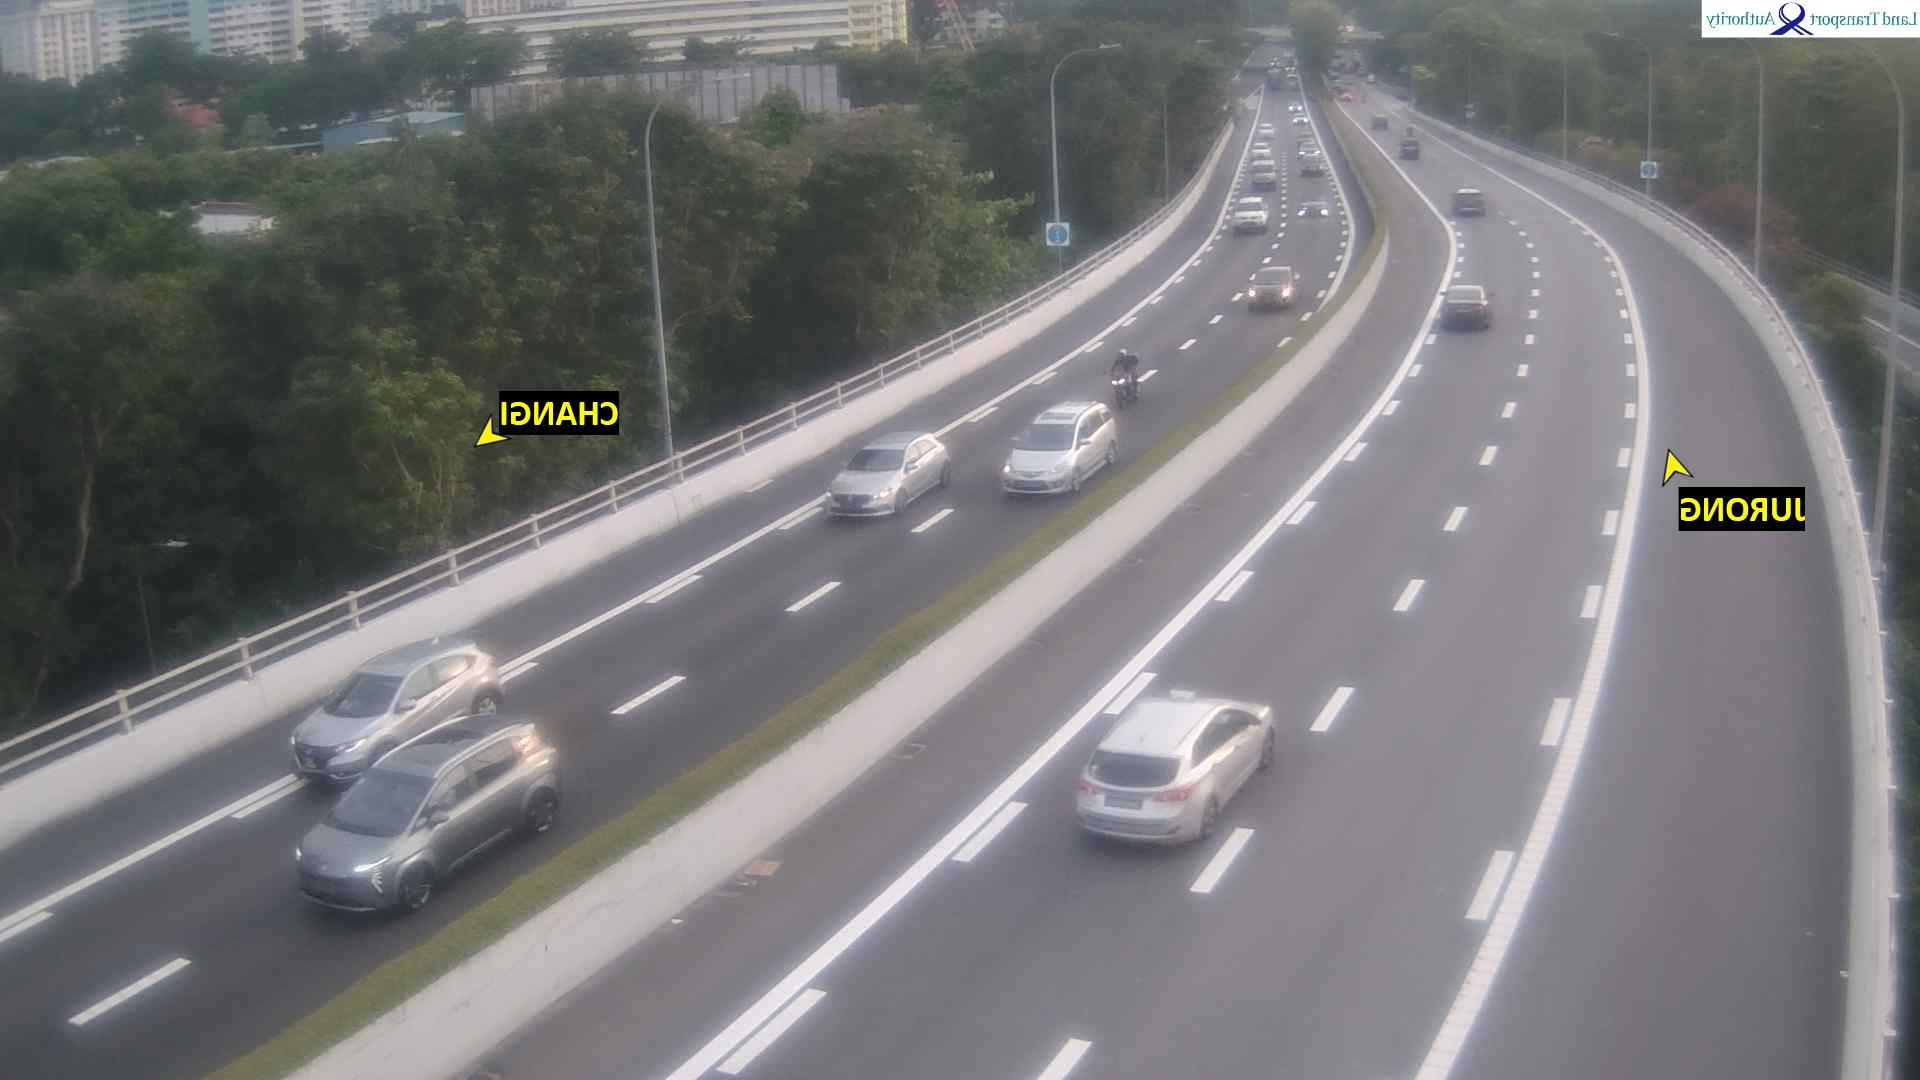cars: (294, 711, 564, 916), (290, 634, 506, 789), (1076, 686, 1278, 848), (1002, 400, 1121, 497), (825, 429, 952, 520), (1247, 264, 1302, 309), (1443, 284, 1493, 328), (1233, 194, 1270, 233), (1266, 51, 1300, 88), (1453, 186, 1486, 216), (1298, 144, 1325, 175), (1251, 158, 1279, 187), (1298, 199, 1331, 218), (1400, 137, 1422, 160), (1250, 138, 1273, 160), (1298, 138, 1319, 154), (1371, 112, 1390, 129), (1284, 67, 1300, 83), (1294, 112, 1311, 127), (1259, 121, 1275, 136), (1338, 88, 1356, 102), (1288, 100, 1303, 112)
motorcycle: (1108, 357, 1142, 409)
